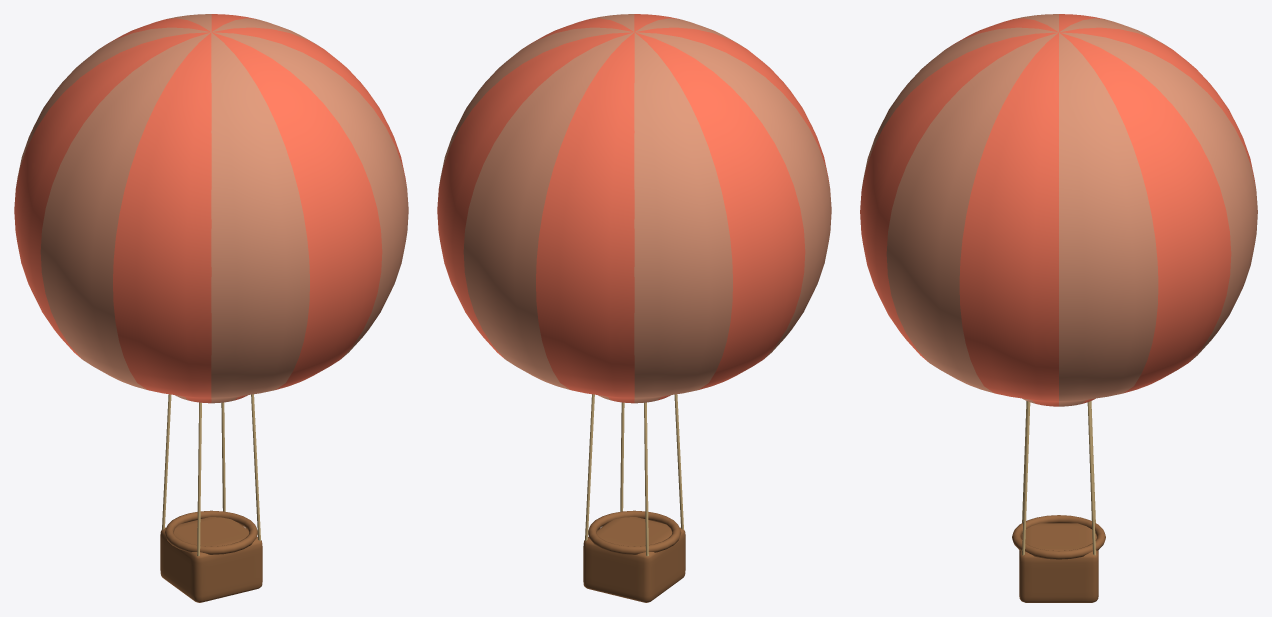
The model's file is ParasolPlummetBalloon.obj.
3 renders of one model, left to right at view 1: azimuth 30°, elevation 25°; view 2: azimuth 150°, elevation 25°; view 3: azimuth 270°, elevation 25°, orthographic.
Parts seen in each view (by area): view 1: Envelope, Stripe, Basket, Rope; view 2: Stripe, Envelope, Basket, Rope; view 3: Envelope, Stripe, Basket, Rope.
Boxes of the visible parts, box(x1,y1,x2,y2) form: Envelope: box(14, 14, 406, 403); Stripe: box(16, 14, 408, 403); Basket: box(160, 510, 262, 602); Rope: box(162, 394, 260, 556); Stripe: box(439, 14, 831, 403); Envelope: box(437, 14, 829, 403); Basket: box(583, 510, 685, 602); Rope: box(585, 394, 683, 556); Envelope: box(860, 14, 1255, 406); Stripe: box(862, 14, 1257, 406); Basket: box(1012, 515, 1105, 602); Rope: box(1022, 401, 1095, 555).
Size of the model in its own units: 14 by 21.6 by 14.
